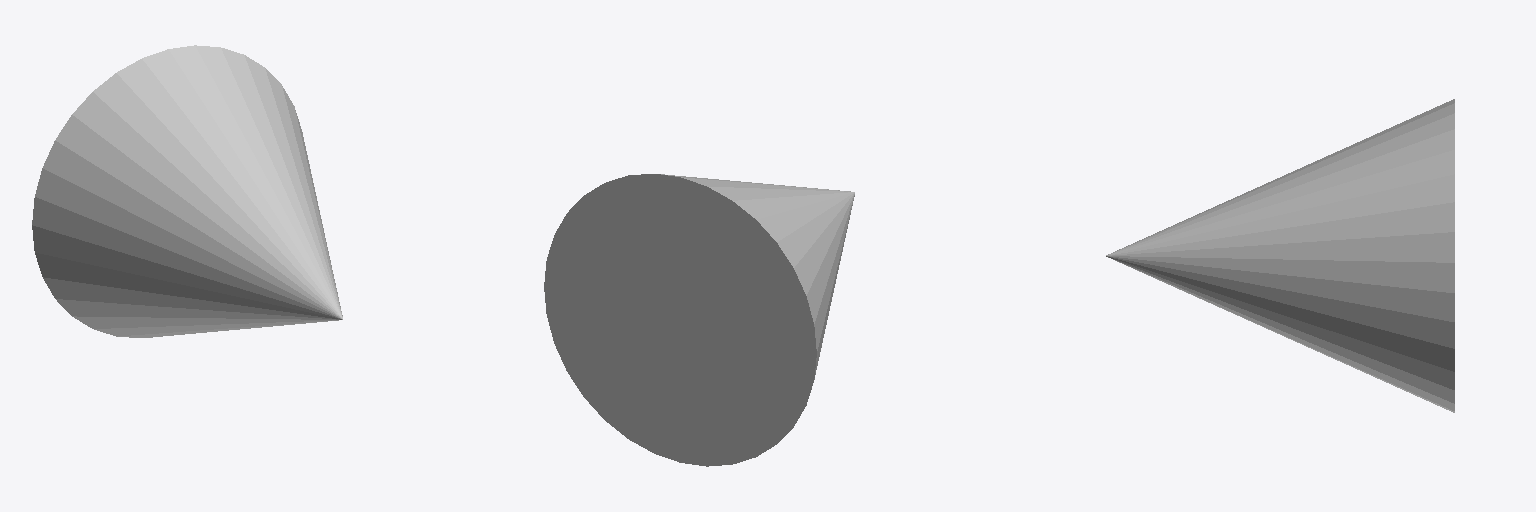
Rendered from testEnemy.obj.
3 views of the same model, side by side, from view 1: azimuth 30°, elevation 25°; view 2: azimuth 150°, elevation 25°; view 3: azimuth 270°, elevation 25° (orthographic).
Visible parts, largest first — view 1: 円錐; view 2: 円錐; view 3: 円錐.
Part boxes in pixels (bbox=[...]): 円錐: bbox=[32, 45, 342, 337]; 円錐: bbox=[544, 174, 854, 466]; 円錐: bbox=[1106, 99, 1454, 412].
Bounding box in the file's own units: 1.8 × 1.8 × 2.